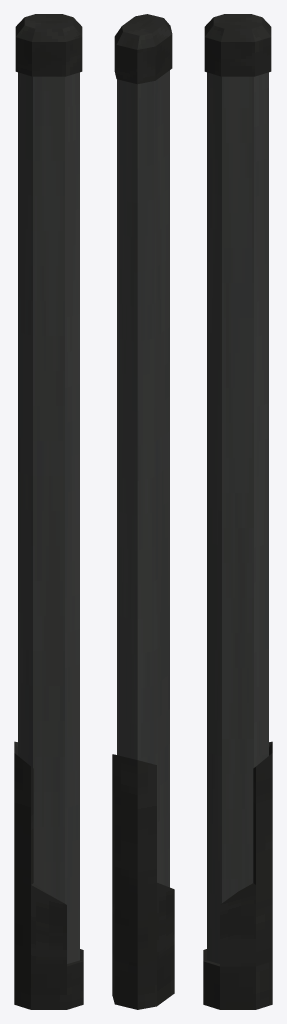
File: Sheath.fbx
3 views of the same model, side by side, from view 1: azimuth 90°, elevation 25°; view 2: azimuth 150°, elevation 25°; view 3: azimuth 270°, elevation 25° (orthographic).
Visible parts, largest first — view 1: Cube.004, Cube.006, Cube.005; view 2: Cube.004, Cube.006, Cube.005; view 3: Cube.004, Cube.006, Cube.005.
Part boxes in pixels (box(x1,y1,x2,y2)): Cube.004: box(18, 72, 79, 963); Cube.006: box(14, 741, 83, 1009); Cube.005: box(15, 14, 82, 76); Cube.004: box(117, 70, 169, 887); Cube.006: box(112, 754, 174, 1009); Cube.005: box(114, 14, 172, 84); Cube.004: box(207, 72, 268, 963); Cube.006: box(203, 741, 272, 1009); Cube.005: box(204, 14, 271, 76).
Size of the model in its own units: 124 by 2596 by 167.
